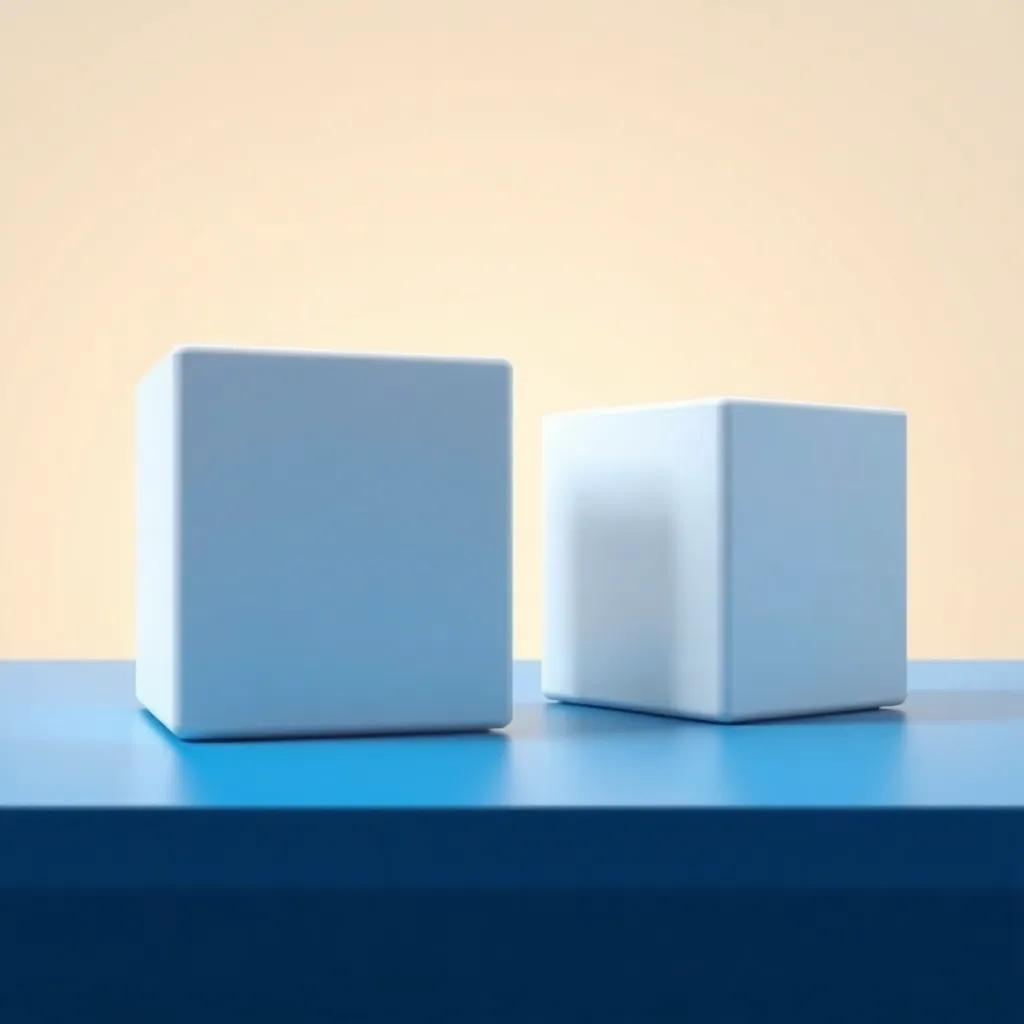cube: (133, 343, 514, 741), (539, 395, 908, 723)
